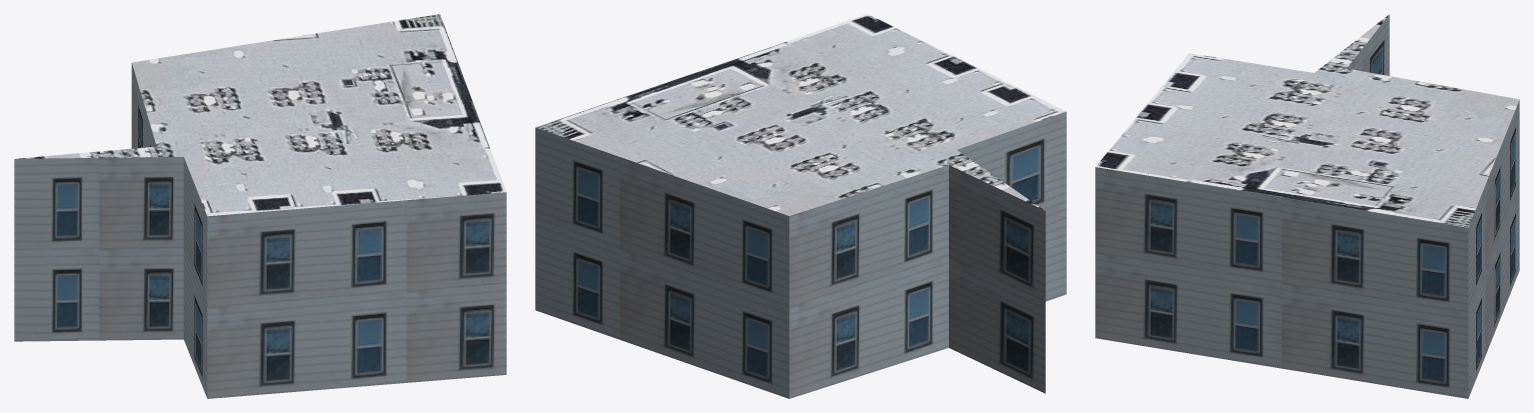
The model's file is ResTex__3979.fbx.
The picture shows the model from 3 angles, left to right: view 1: azimuth 30°, elevation 25°; view 2: azimuth 150°, elevation 25°; view 3: azimuth 270°, elevation 25°; orthographic projection. The views are drawn at different scales.
Visible parts, largest first — view 1: CityEngineMaterial_18_m, CityEngineMaterial_8_m; view 2: CityEngineMaterial_18_m, CityEngineMaterial_8_m; view 3: CityEngineMaterial_18_m, CityEngineMaterial_8_m.
Boxes of the visible parts, x1,y1,x2,y2 form: CityEngineMaterial_18_m: [14, 63, 506, 398]; CityEngineMaterial_8_m: [15, 14, 506, 216]; CityEngineMaterial_18_m: [535, 111, 1066, 398]; CityEngineMaterial_8_m: [535, 14, 1066, 215]; CityEngineMaterial_18_m: [1095, 14, 1519, 398]; CityEngineMaterial_8_m: [1095, 14, 1519, 227].
Bounding box in the file's own units: 16.08 × 6 × 13.48.
Materials: 2 (2 with a texture image).
